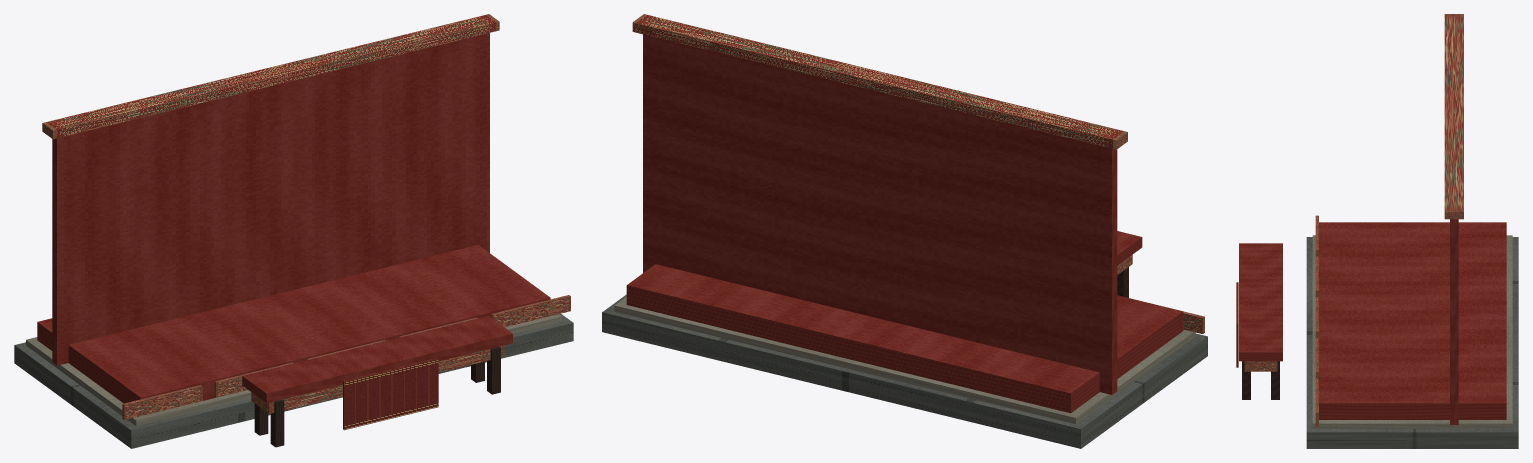
The model's file is hall_altar.glb.
3 views of the same model, side by side, from view 1: azimuth 30°, elevation 25°; view 2: azimuth 150°, elevation 25°; view 3: azimuth 270°, elevation 25° (orthographic). The views are drawn at different scales.
Visible parts, largest first — view 1: hall_altar0; view 2: hall_altar0; view 3: hall_altar0.
Boxes of the visible parts, <box> form: hall_altar0: <box>14,14,573,448</box>; hall_altar0: <box>602,14,1207,448</box>; hall_altar0: <box>1236,14,1518,448</box>.
Bounding box in the file's own units: 9.7 × 5.46 × 5.87.
1 material, 1 textured.
